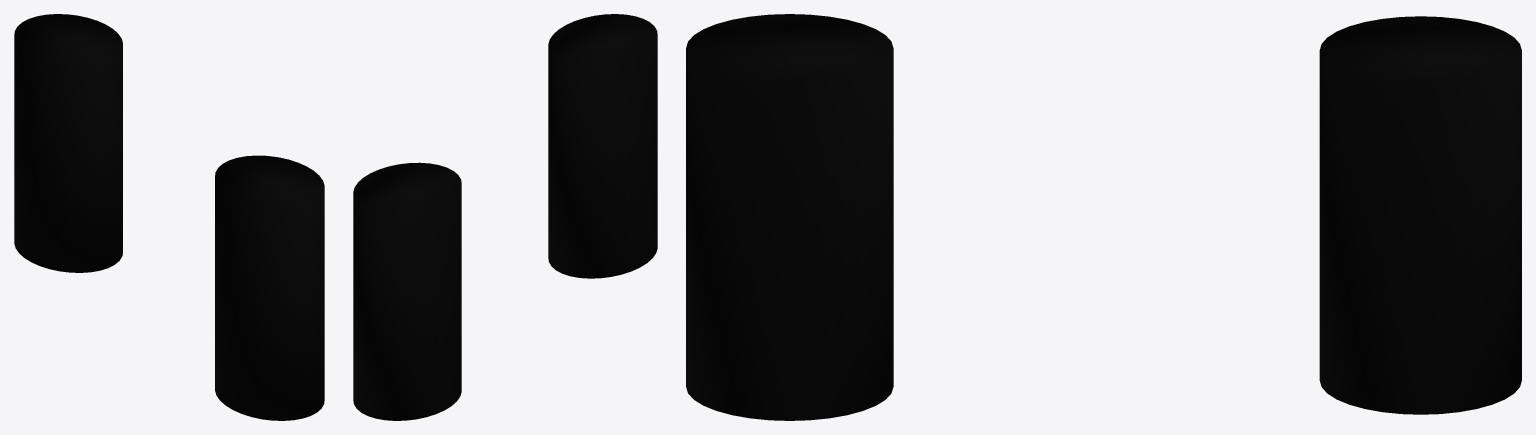
File: kabeteki_eyes.fbx
3 views of the same model, side by side, from view 1: azimuth 30°, elevation 25°; view 2: azimuth 150°, elevation 25°; view 3: azimuth 270°, elevation 25° (orthographic). The views are drawn at different scales.
Parts seen in each view (by area): view 1: 立方体.002, 立方体.001; view 2: 立方体.002, 立方体.001; view 3: 立方体.002, 立方体.001.
Boxes of the visible parts, <box> form: 立方体.002: <box>215,155,324,420</box>; 立方体.001: <box>14,14,122,272</box>; 立方体.002: <box>548,14,657,278</box>; 立方体.001: <box>353,162,461,420</box>; 立方体.002: <box>686,14,893,420</box>; 立方体.001: <box>1319,16,1521,414</box>.
Size of the model in its own units: 388 by 77.42 by 173.
